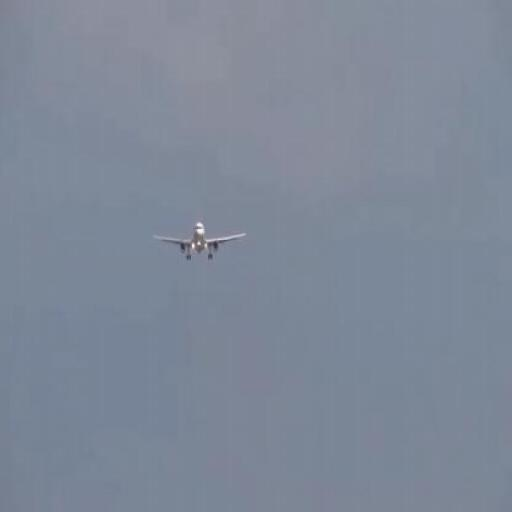aircraft: (152, 222, 248, 262)
